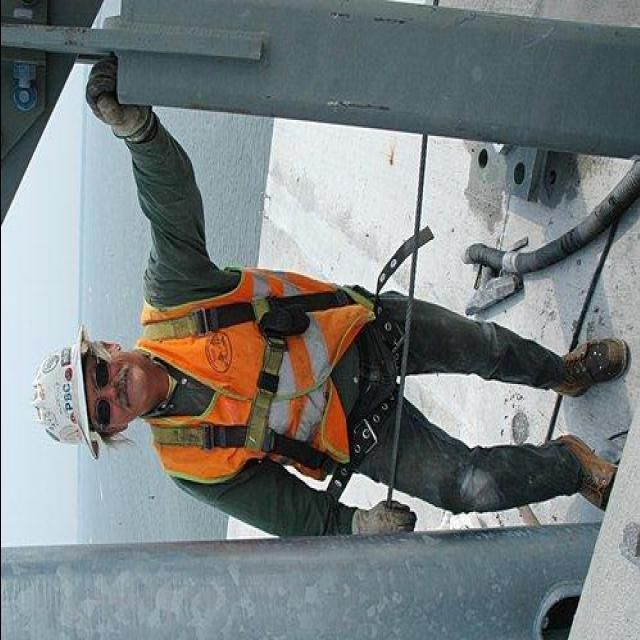helmet: (24, 323, 100, 482)
jacket: (138, 254, 378, 500)
